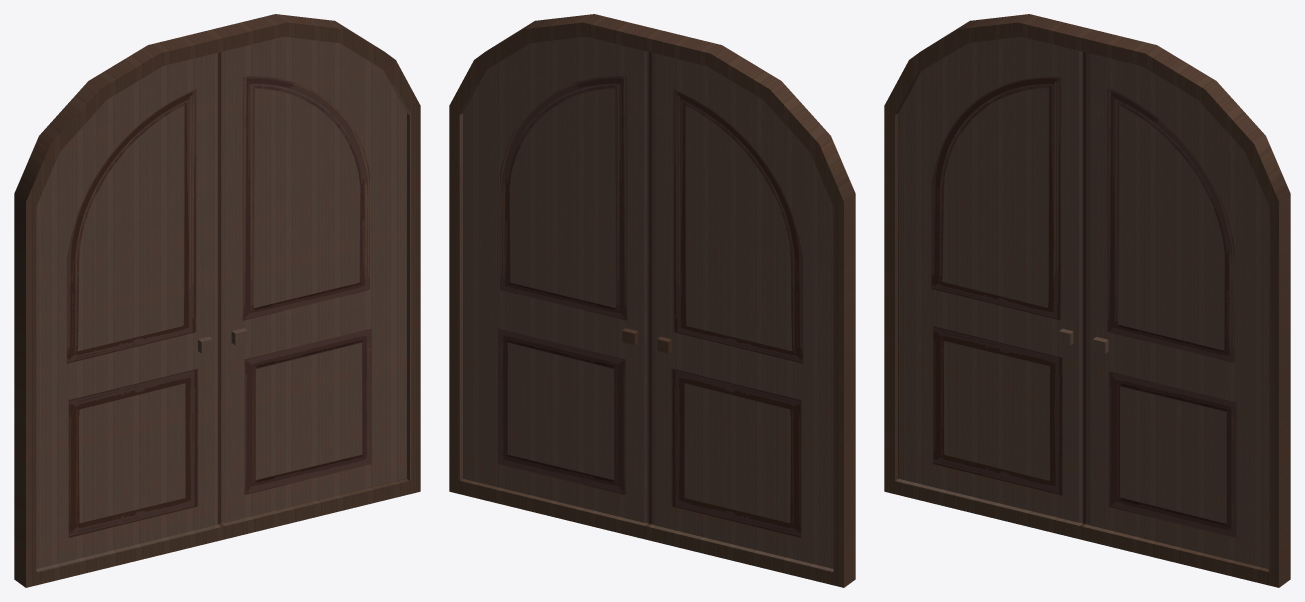
File: 3dmodel_largedoubledoors_v1_sc.fbx
3 views of the same model, side by side, from view 1: azimuth 30°, elevation 25°; view 2: azimuth 150°, elevation 25°; view 3: azimuth 330°, elevation 25° (orthographic).
Parts seen in each view (by area): view 1: largedoubledoors; view 2: largedoubledoors; view 3: largedoubledoors.
Part boxes in pixels (box(x1,y1,x2,y2)): largedoubledoors: box(14, 14, 420, 587); largedoubledoors: box(449, 14, 855, 587); largedoubledoors: box(884, 14, 1290, 587).
Bounding box in the file's own units: 1.78 × 2.16 × 0.0982.
